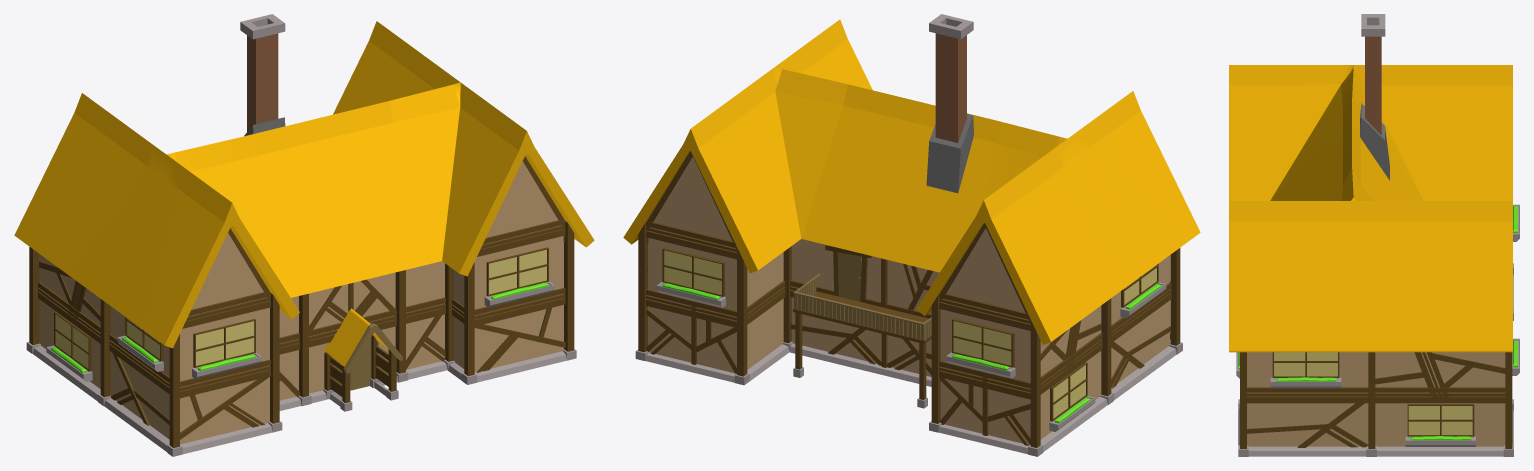
File: Modular_Houses_The_Inn.fbx
3 renders of one model, left to right at view 1: azimuth 30°, elevation 25°; view 2: azimuth 150°, elevation 25°; view 3: azimuth 270°, elevation 25°, orthographic. The views are drawn at different scales.
Visible parts, largest first — view 1: The_Inn; view 2: The_Inn; view 3: The_Inn.
Boxes of the visible parts, x1,y1,x2,y2 form: The_Inn: [14, 14, 594, 456]; The_Inn: [623, 14, 1200, 456]; The_Inn: [1229, 14, 1519, 456].
Bounding box in the file's own units: 2024 × 1543 × 1254.
